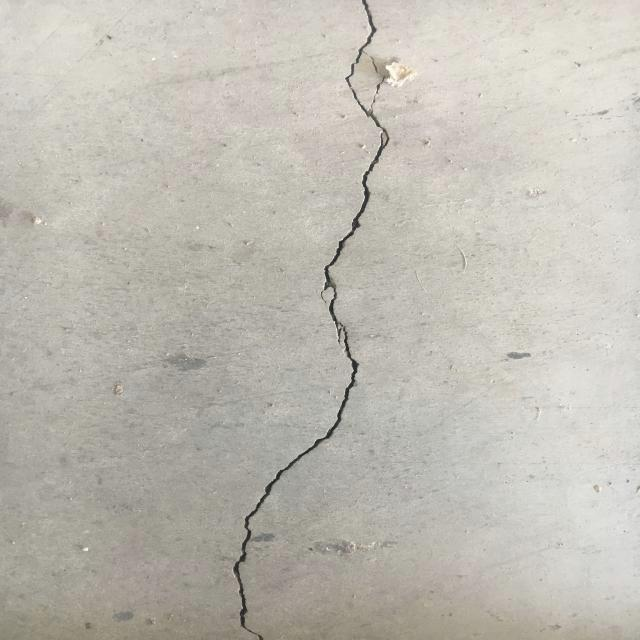SurfaceCrack: (212, 0, 420, 640)
